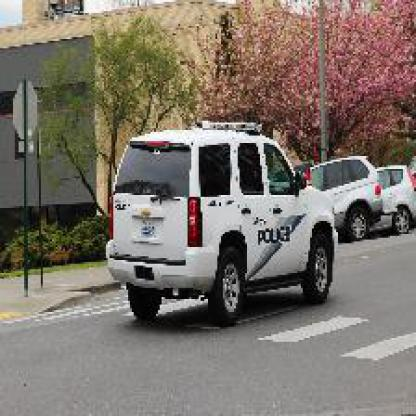emergency: (100, 113, 338, 327)
